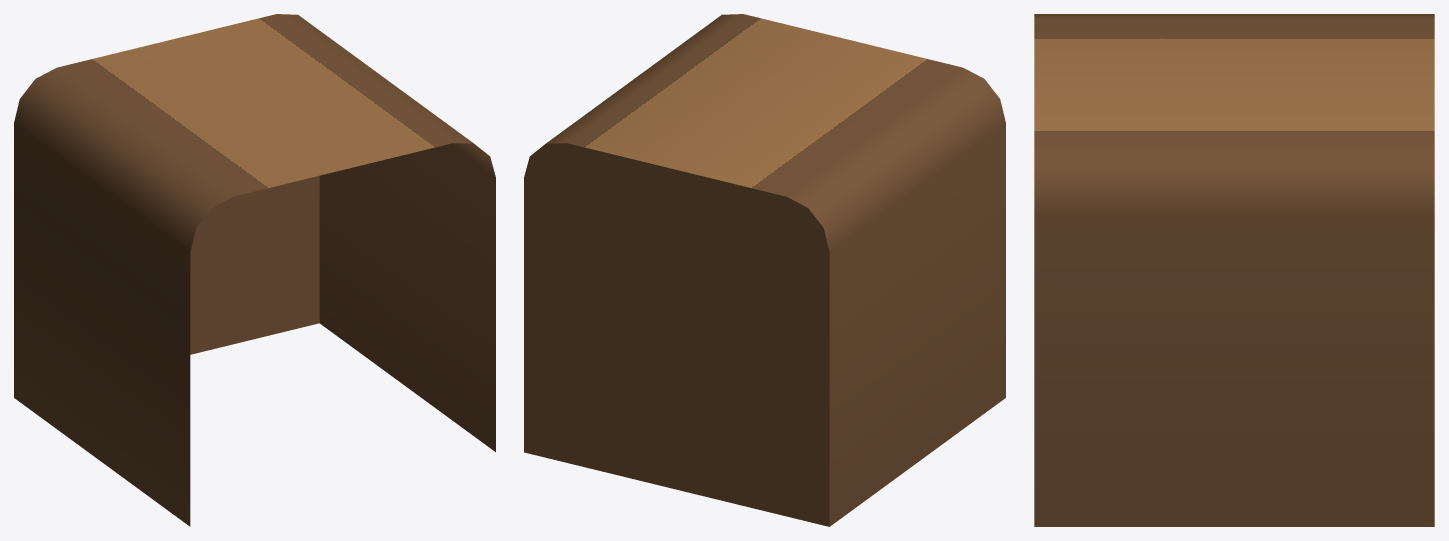
Rendered from ground.fbx.
The picture shows the model from 3 angles, left to right: view 1: azimuth 30°, elevation 25°; view 2: azimuth 150°, elevation 25°; view 3: azimuth 270°, elevation 25°; orthographic projection. The views are drawn at different scales.
Visible parts, largest first — view 1: Cube.002; view 2: Cube.002; view 3: Cube.002.
Boxes of the visible parts, <box> form: Cube.002: <box>14,14,495,526</box>; Cube.002: <box>524,14,1005,526</box>; Cube.002: <box>1034,14,1434,526</box>.
Bounding box in the file's own units: 100 × 100 × 100.
